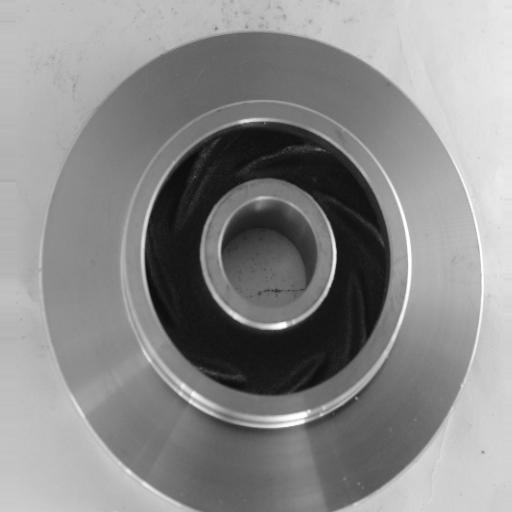polished_casting: (40, 28, 483, 512)
